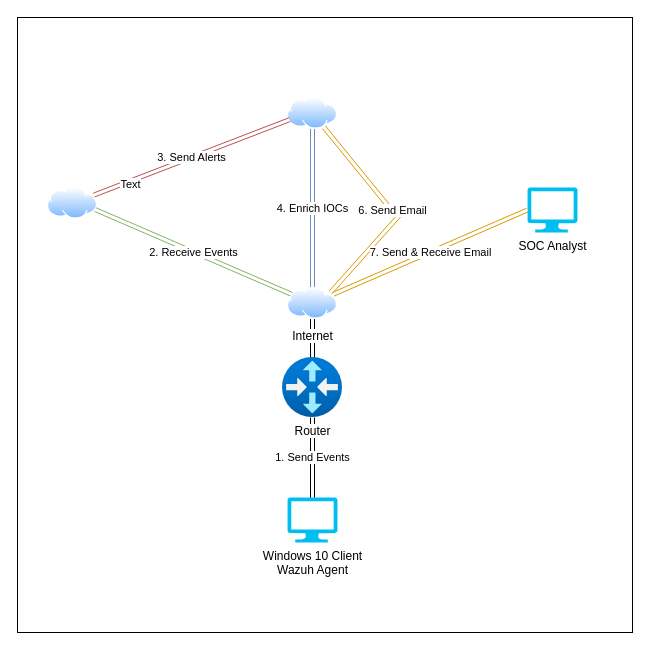
This 650x650 diagram has some shape labels left out. Each missing label, with the centre of its shape:
Shuffle: the point at 312,112
Wazuh Manager: the point at 72,202
